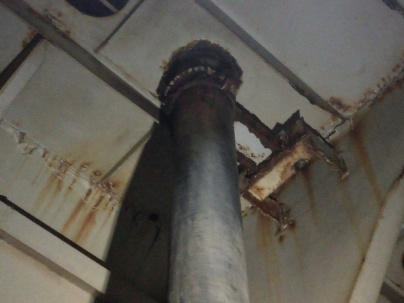corrosion: (38, 161, 117, 243), (346, 121, 394, 217), (271, 112, 347, 168), (251, 209, 285, 303), (336, 71, 401, 117), (238, 169, 285, 225), (299, 174, 321, 216)
